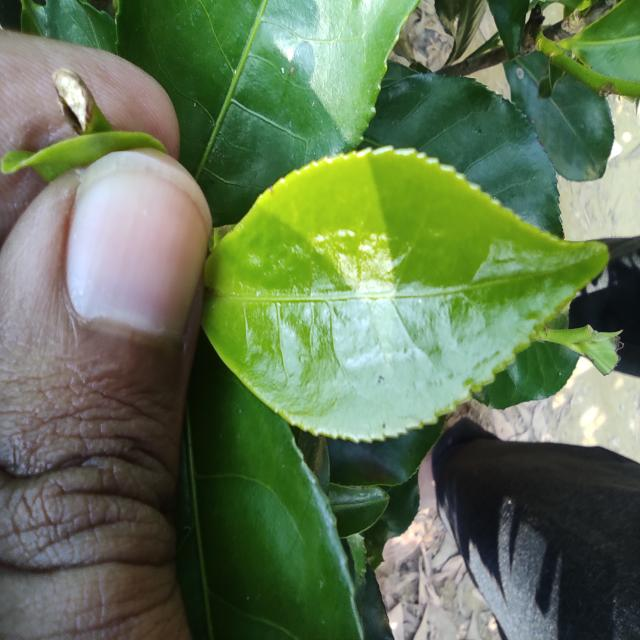Category C(4-7 days): (170, 126, 614, 447)
